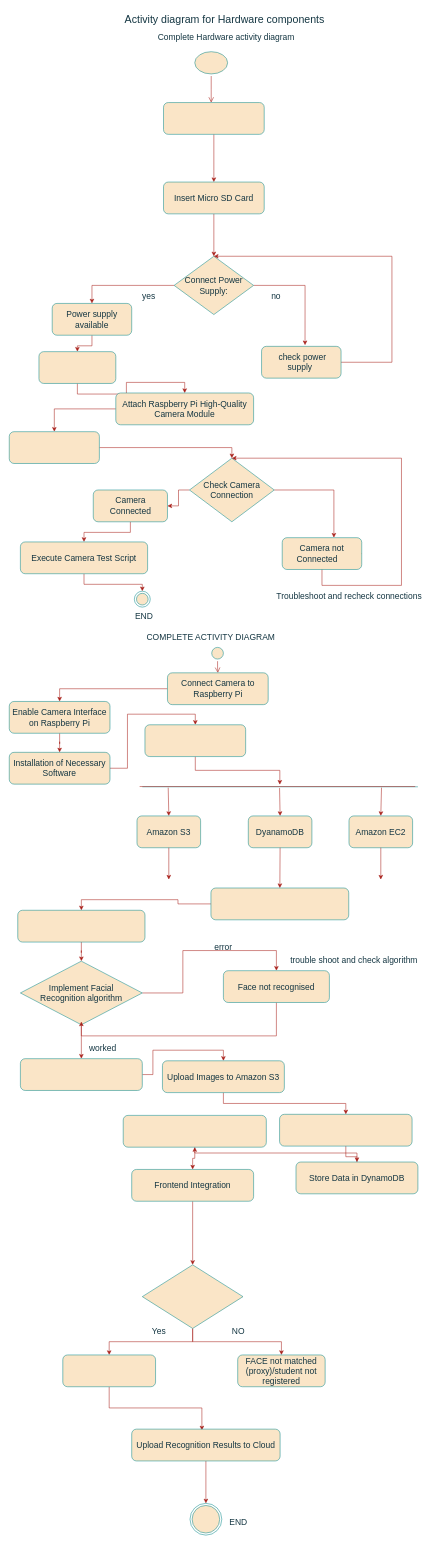
This 436x1544 diagram has some shape labels left out. The box of each missing label's shape, as (x1, y1, x2, y2) in pixels:
Backend Integration (Amazon EC2): (123, 1115, 266, 1147)
Capture Images with Raspberry Pi: (17, 910, 145, 942)
checking student attendence: (142, 1264, 243, 1328)
Configure AWS Credentials on Raspberry Pi: (210, 887, 349, 920)
Connect Internet through ethernet: (38, 351, 116, 383)
Face recognised successfully: (20, 1058, 142, 1090)
Faced matched to the image in DB: (62, 1354, 156, 1387)
Initialize Raspberry Pi: (9, 431, 99, 463)
Log Attendance Data: (279, 1114, 412, 1146)
Raspberry PI: (163, 102, 264, 134)
Set Up AWS Account: (144, 724, 246, 757)
